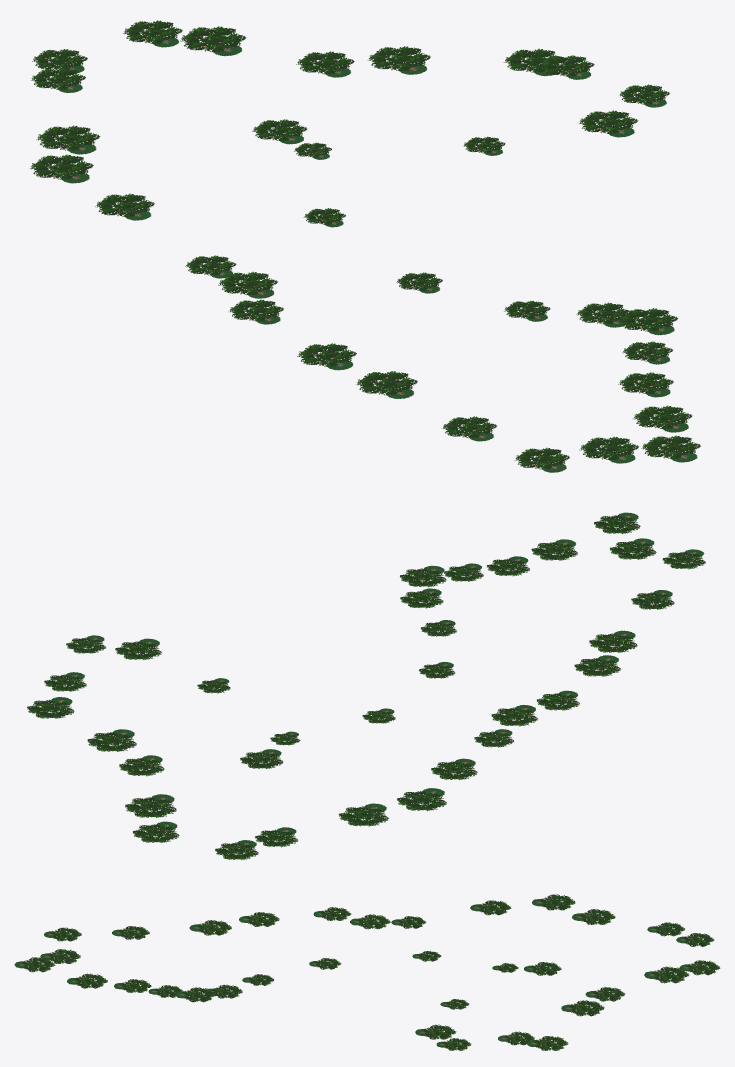
The model's file is glf_map_fc12__glf_tree_fc12.glb.
3 renders of one model, top to bottom at view 1: azimuth 30°, elevation 25°; view 2: azimuth 150°, elevation 25°; view 3: azimuth 270°, elevation 25°, orthographic. The views are drawn at different scales.
Visible parts, largest first — view 1: polygon0; view 2: polygon0; view 3: polygon0.
Part boxes in pixels (x1,y1,x2,y2): polygon0: (29,20,700,472); polygon0: (27,512,705,859); polygon0: (14,894,720,1050).
Size of the model in its own units: 2089 by 121 by 3766.
1 material, 1 textured.
